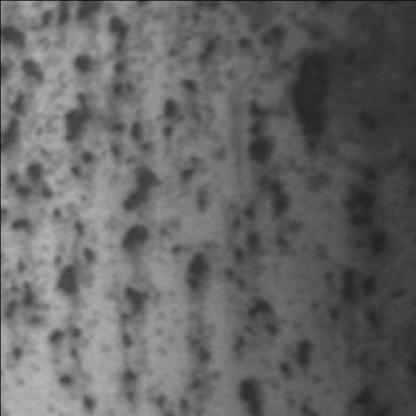pitted_surface: (0, 19, 389, 414)
